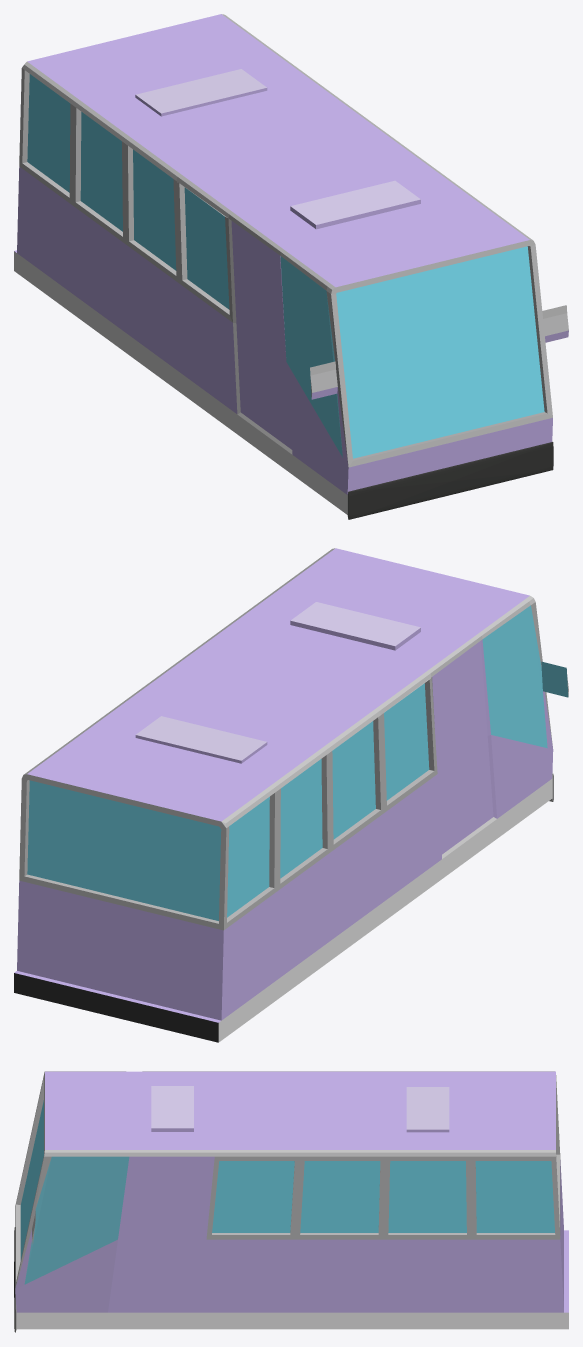
Rendered from Bus.fbx.
3 views of the same model, one above another, from view 1: azimuth 30°, elevation 25°; view 2: azimuth 150°, elevation 25°; view 3: azimuth 270°, elevation 25° (orthographic). The views are drawn at different scales.
Visible parts, largest first — view 1: Bus; view 2: Bus; view 3: Bus.
Boxes of the visible parts, x1,y1,x2,y2 form: Bus: (14,14,568,519); Bus: (14,548,568,1042); Bus: (14,1071,568,1332).
Size of the model in its own units: 3.76 by 3.12 by 8.52.
